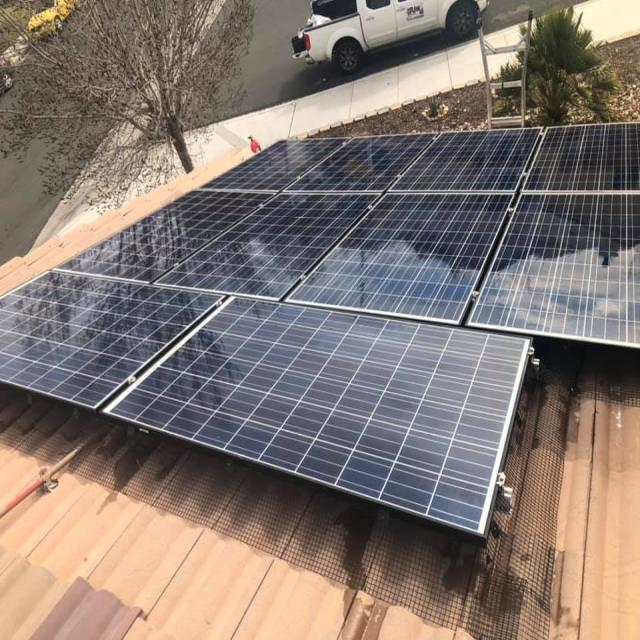clean-solar-panel: (1, 123, 640, 537)
